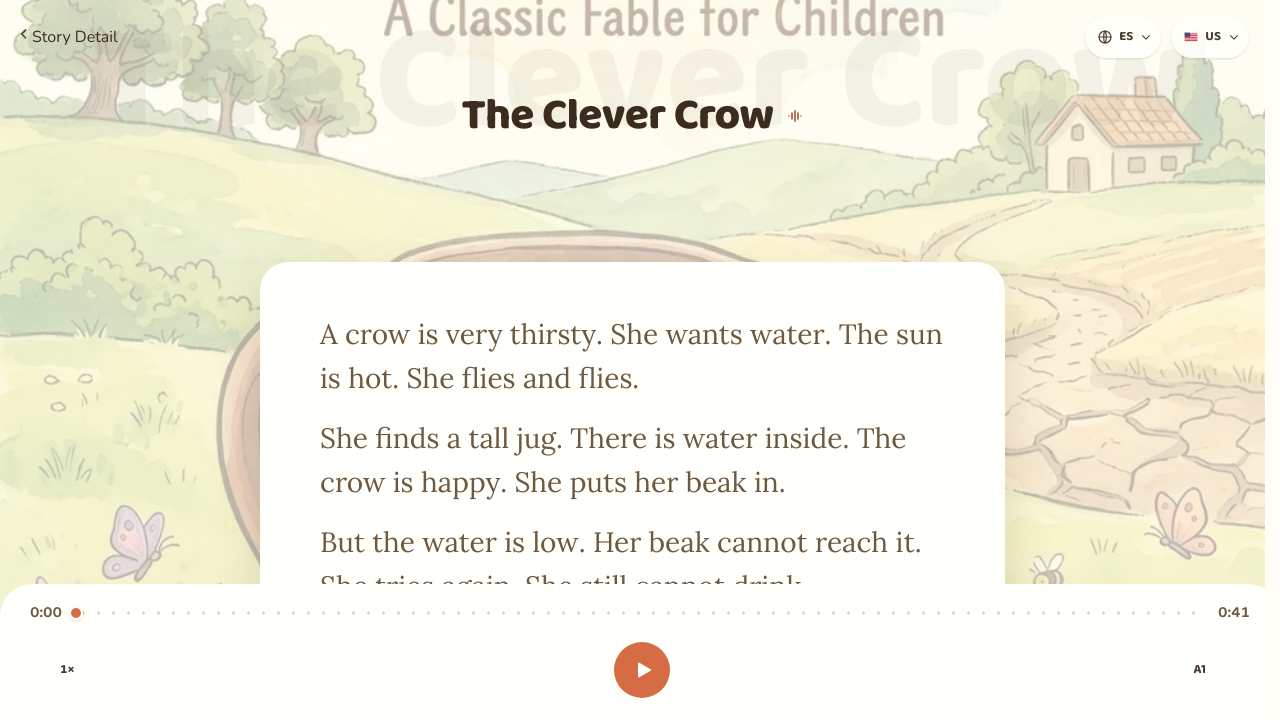
ReaderScreen — auto-advance + end-of-story › auto-advances to the next page on natural completion and keeps narrating (autoplay OFF)
expect the heading "The Clever Crow" is shown: met, box [462,90,804,142]
Click the button named "Play": (642, 670) [614,642,670,698]
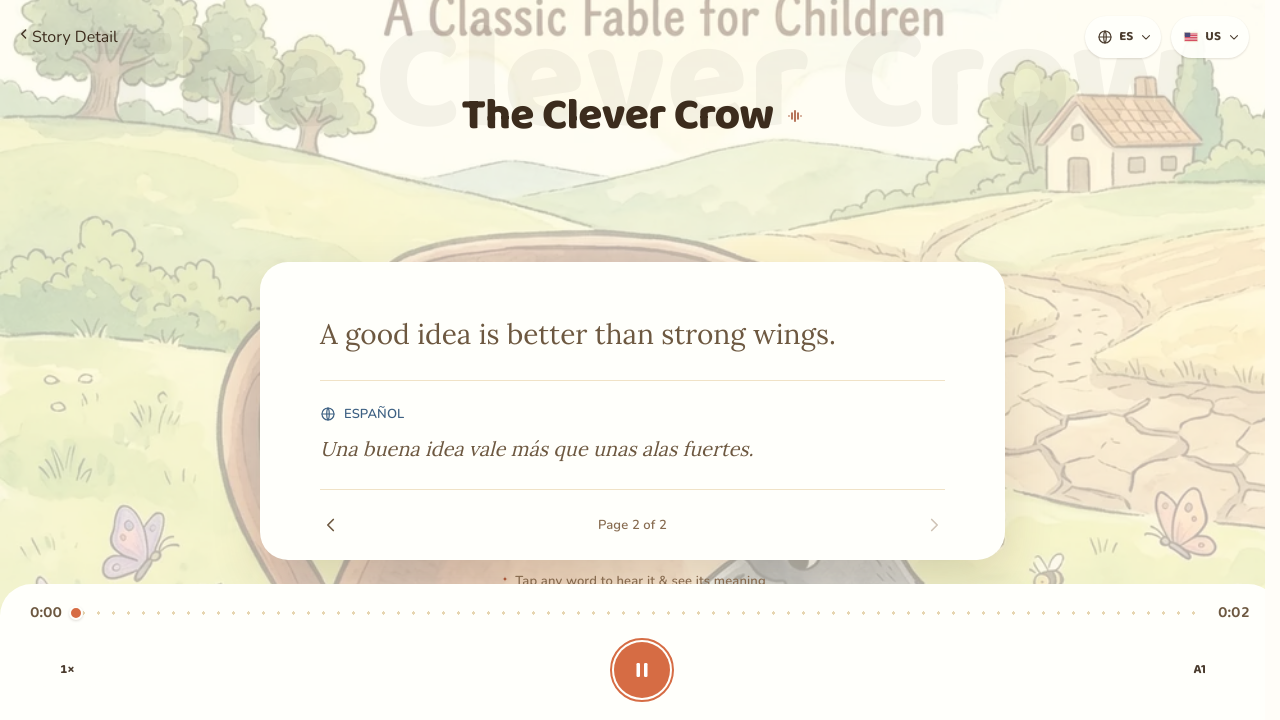
expect the text "Page 2 of 2" is shown: met, box [598,516,667,534]
expect the button named "Pause" is shown: met, box [614,642,670,698]
